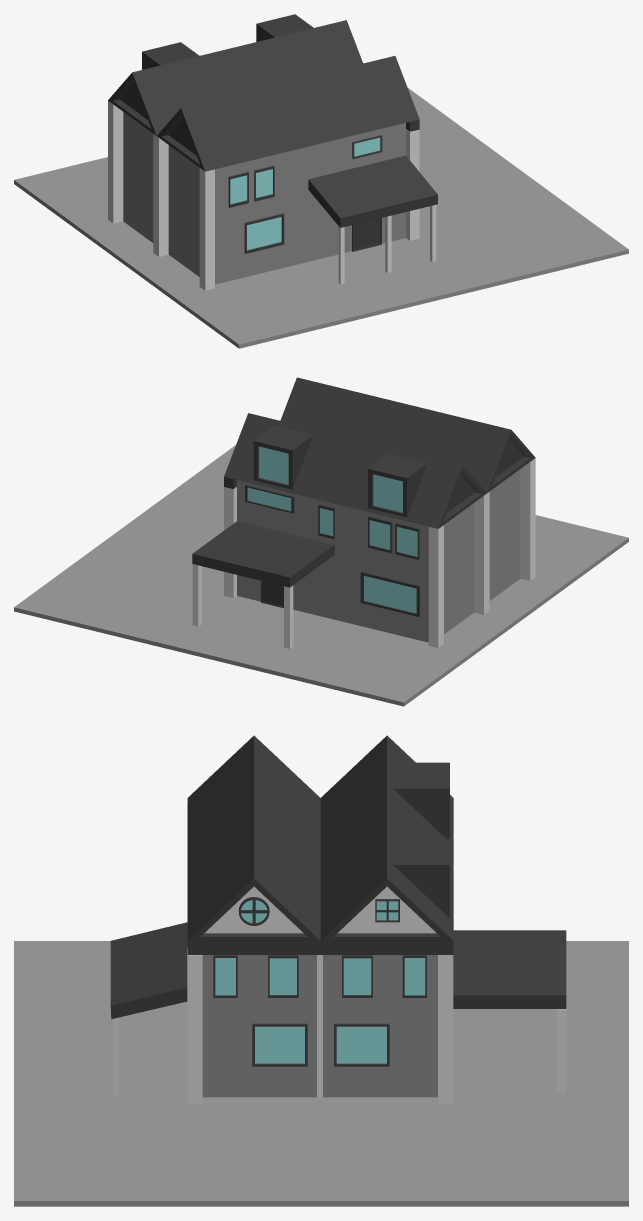
File: angie huis3.fbx
3 renders of one model, top to bottom at view 1: azimuth 30°, elevation 25°; view 2: azimuth 150°, elevation 25°; view 3: azimuth 270°, elevation 25°, orthographic. The views are drawn at different scales.
Parts seen in each view (by area): view 1: Cube.015, Cube, Cylinder, Cylinder.001, Cube.001, Cube.005, Cube.006, Cube.004, Cube.025, Cube.040, Cube.041, Cube.002 (+4 smaller); view 2: Cube.015, Cube, Cylinder, Cylinder.001, Cube.029, Cube.040, Cube.041, Cube.035, Cube.004, Cube.006, Cube.005, Cube.036 (+7 smaller); view 3: Cube.015, Cube, Cylinder, Cylinder.001, Cube.029, Cube.001, Cube.007, Cube.041, Cube.040, Cube.018, Cube.023, Cube.002 (+7 smaller).
Boxes of the visible parts, x1=… form: Cube.015: x1=14, y1=88, x2=628, y2=348; Cube: x1=123, y1=112, x2=405, y2=284; Cylinder: x1=157, y1=56, x2=419, y2=171; Cylinder.001: x1=108, y1=20, x2=363, y2=135; Cube.001: x1=308, y1=155, x2=437, y2=227; Cube.005: x1=199, y1=168, x2=214, y2=290; Cube.006: x1=153, y1=134, x2=168, y2=256; Cube.004: x1=108, y1=101, x2=123, y2=223; Cube.025: x1=244, y1=213, x2=284, y2=253; Cube.040: x1=256, y1=14, x2=313, y2=41; Cube.041: x1=142, y1=42, x2=199, y2=69; Cube.002: x1=406, y1=129, x2=419, y2=240; Cube.015: x1=14, y1=445, x2=628, y2=706; Cube: x1=237, y1=469, x2=520, y2=642; Cylinder: x1=280, y1=377, x2=535, y2=492; Cylinder.001: x1=224, y1=413, x2=486, y2=528; Cube.029: x1=192, y1=521, x2=334, y2=587; Cube.040: x1=253, y1=425, x2=313, y2=489; Cube.041: x1=368, y1=453, x2=427, y2=517; Cube.035: x1=360, y1=571, x2=419, y2=616; Cube.004: x1=428, y1=525, x2=443, y2=648; Cube.006: x1=474, y1=492, x2=489, y2=614; Cube.005: x1=520, y1=458, x2=535, y2=580; Cube.036: x1=245, y1=485, x2=294, y2=513; Cube.015: x1=14, y1=941, x2=628, y2=1206; Cube: x1=202, y1=955, x2=437, y2=1097; Cylinder: x1=187, y1=735, x2=320, y2=940; Cylinder.001: x1=320, y1=735, x2=453, y2=940; Cube.029: x1=453, y1=930, x2=566, y2=1008; Cube.001: x1=110, y1=922, x2=187, y2=1019; Cube.007: x1=187, y1=941, x2=453, y2=954; Cube.041: x1=393, y1=762, x2=449, y2=838; Cube.040: x1=393, y1=839, x2=449, y2=917; Cube.018: x1=252, y1=1023, x2=307, y2=1066; Cube.023: x1=334, y1=1023, x2=389, y2=1066; Cube.002: x1=187, y1=949, x2=202, y2=1103.
Size of the model in its own units: 4000 by 1752 by 4000.
